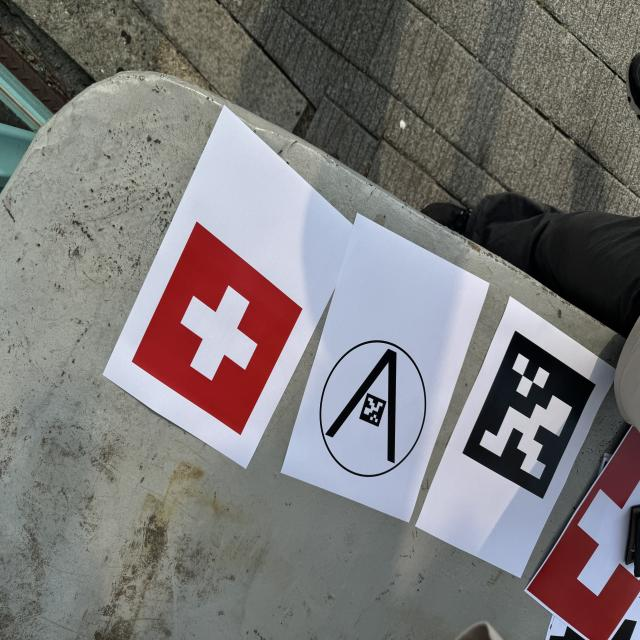ArUro mark: (455, 318, 606, 508)
rescue point: (123, 211, 308, 447)
vertiport: (314, 333, 431, 482)
